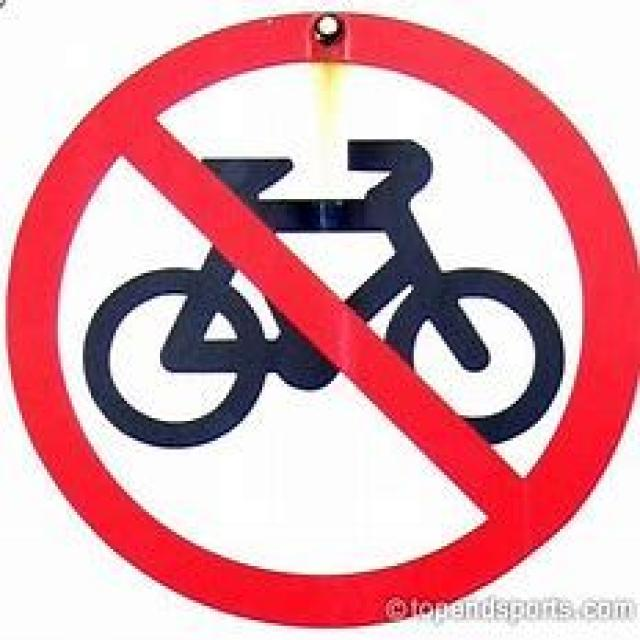cycle_prohibited: (6, 11, 637, 626)
